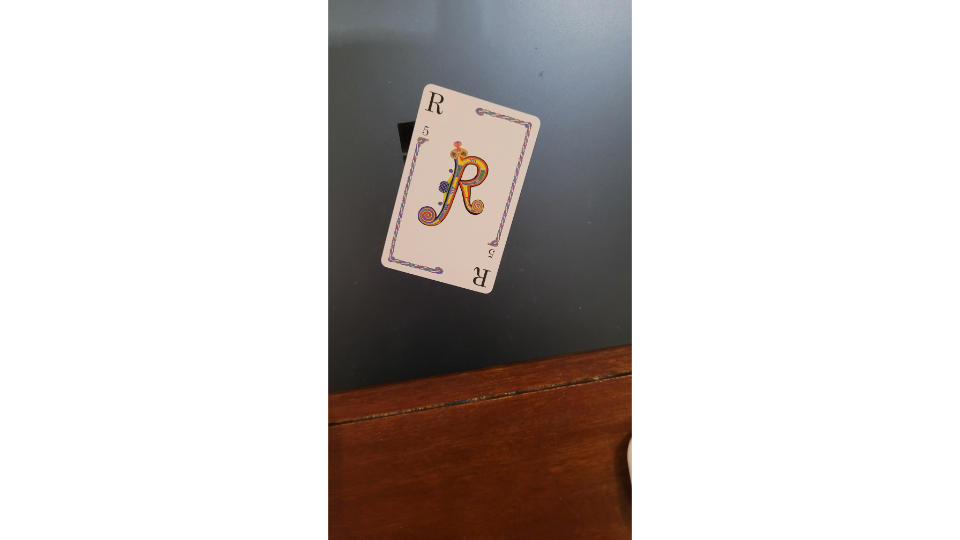R: (379, 81, 544, 297)
